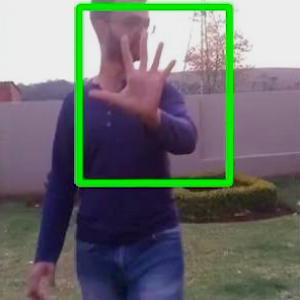follow_hand: (87, 22, 180, 122)
